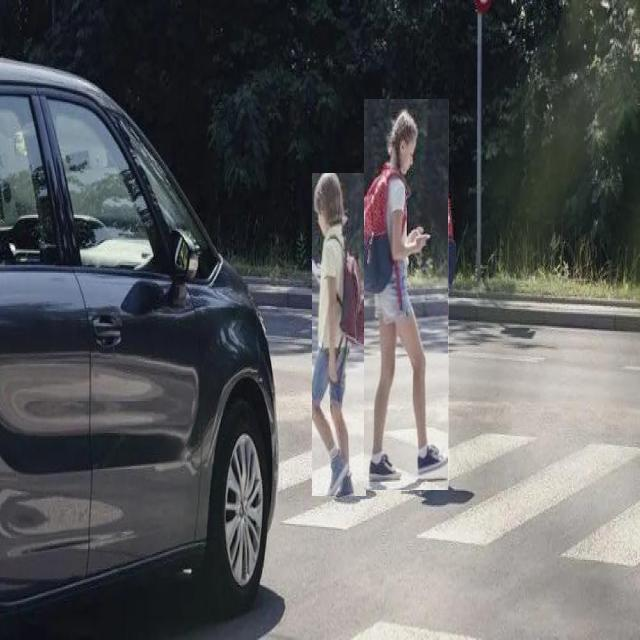without scooter: (365, 100, 450, 490), (312, 173, 366, 496)
